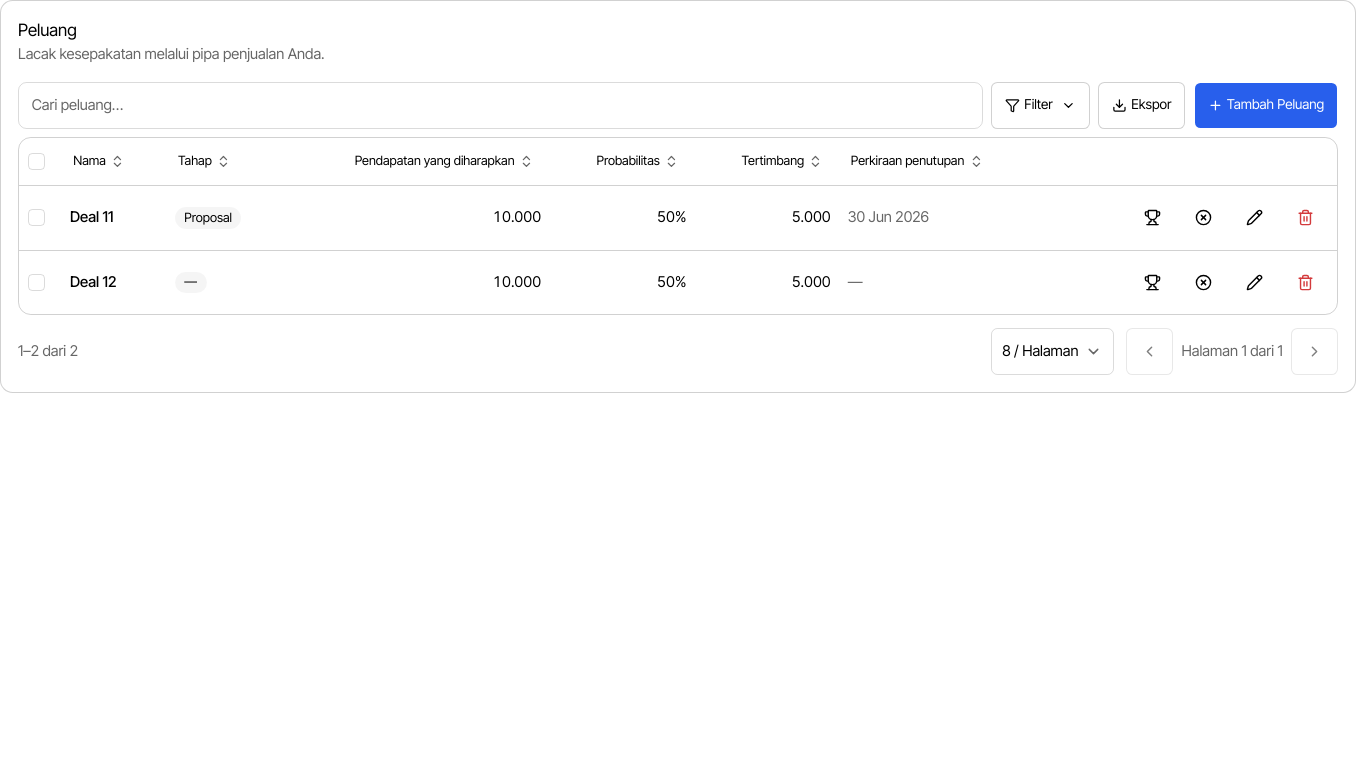
Test case: OpportunitiesSection extra2 › opens the lost-reason dialog from the lose action
Expected: the text "Deal 11" is shown, [70,208,113,226]
Click the button named "Tandai kalah" in the row of "Deal 11".
click(1203, 218)  # box [1180,194,1227,241]
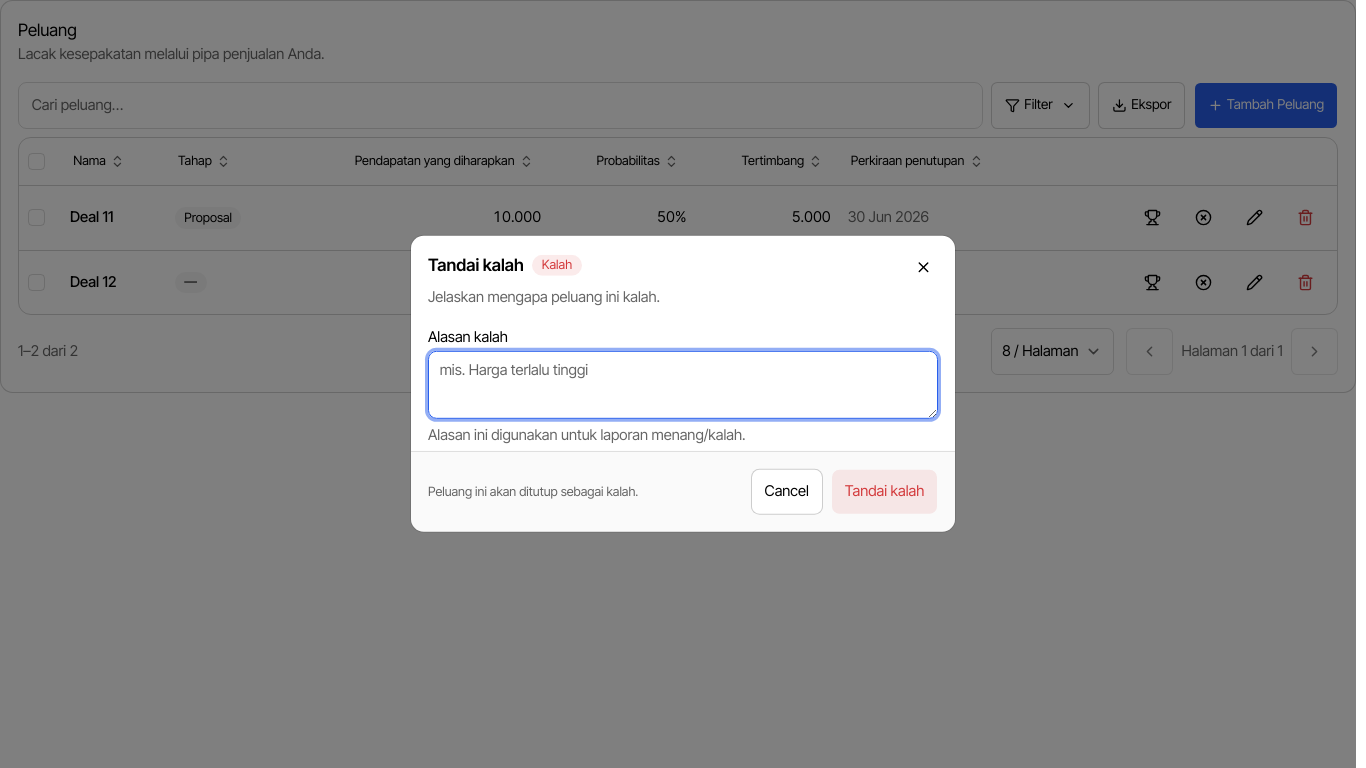
Now the dialog is shown, box [411,236,955,532]
Now the text "Jelaskan mengapa peluang ini kalah." is shown, box [428,288,660,306]
